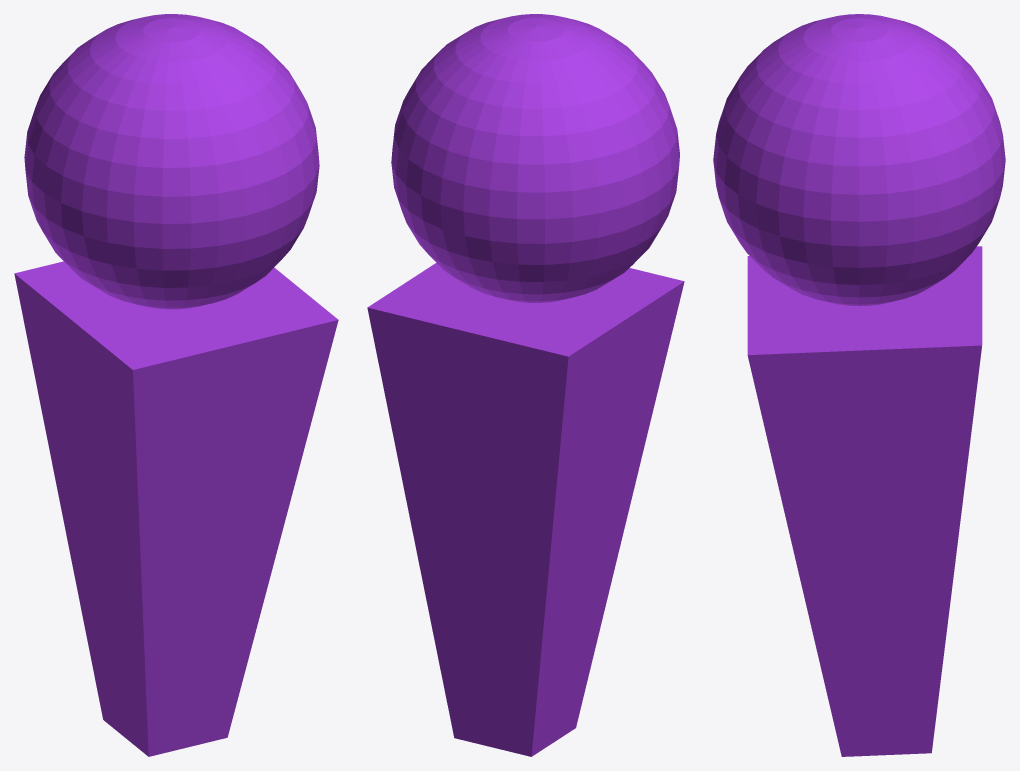
File: Cursor.fbx
The picture shows the model from 3 angles, left to right: view 1: azimuth 30°, elevation 25°; view 2: azimuth 150°, elevation 25°; view 3: azimuth 270°, elevation 25°; orthographic projection. The views are drawn at different scales.
Visible parts, largest first — view 1: Cursor; view 2: Cursor; view 3: Cursor.
Boxes of the visible parts, box(x1,y1,x2,y2) form: Cursor: box(14, 14, 338, 756); Cursor: box(367, 14, 684, 756); Cursor: box(713, 14, 1005, 756).
Bounding box in the file's own units: 4.36 × 11.62 × 4.36.
